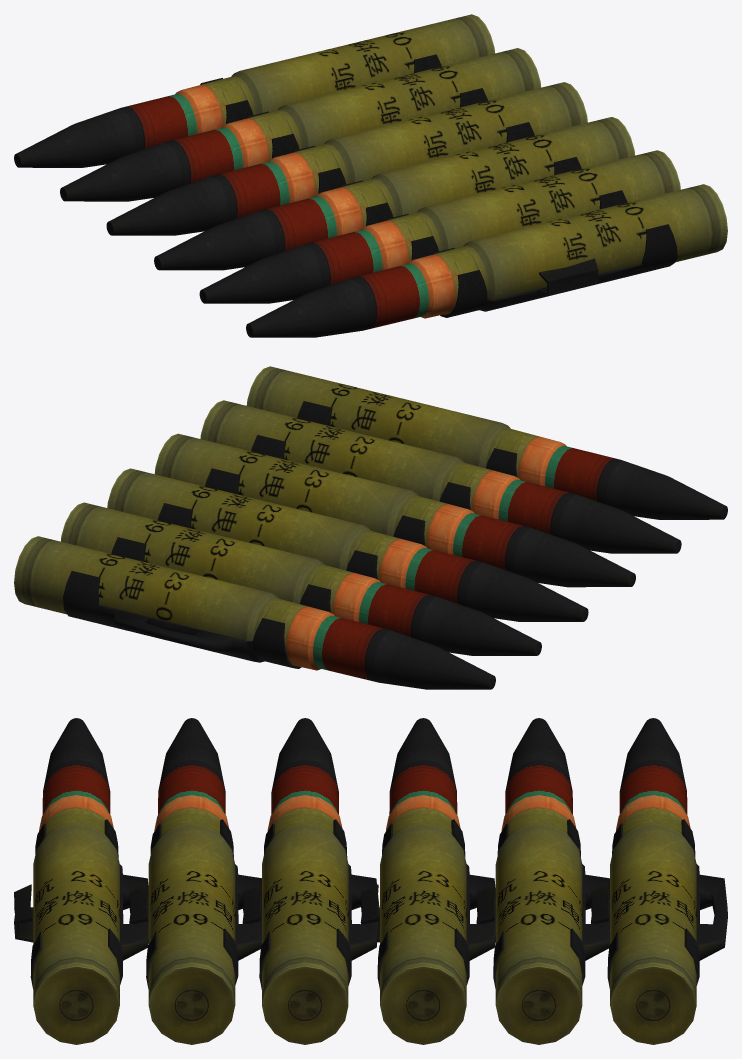
3 renders of one model, top to bottom at view 1: azimuth 30°, elevation 25°; view 2: azimuth 150°, elevation 25°; view 3: azimuth 270°, elevation 25°, orthographic. The views are drawn at different scales.
Parts seen in each view (by area): view 1: AT_08_lod0; view 2: AT_08_lod0; view 3: AT_08_lod0.
Boxes of the visible parts, x1,y1,x2,y2 form: AT_08_lod0: [14, 14, 727, 337]; AT_08_lod0: [14, 366, 727, 689]; AT_08_lod0: [14, 718, 727, 1044].
Bounding box in the file's own units: 12.7 × 1.71 × 13.66.
